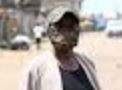with_facemask: (47, 29, 80, 50)
